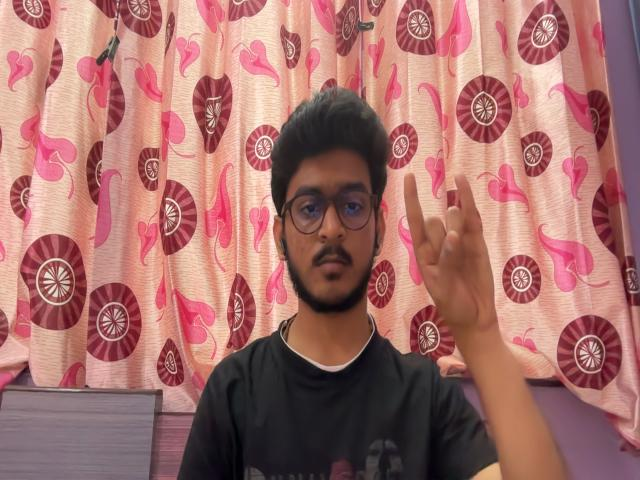I Love You: (394, 158, 518, 343)
